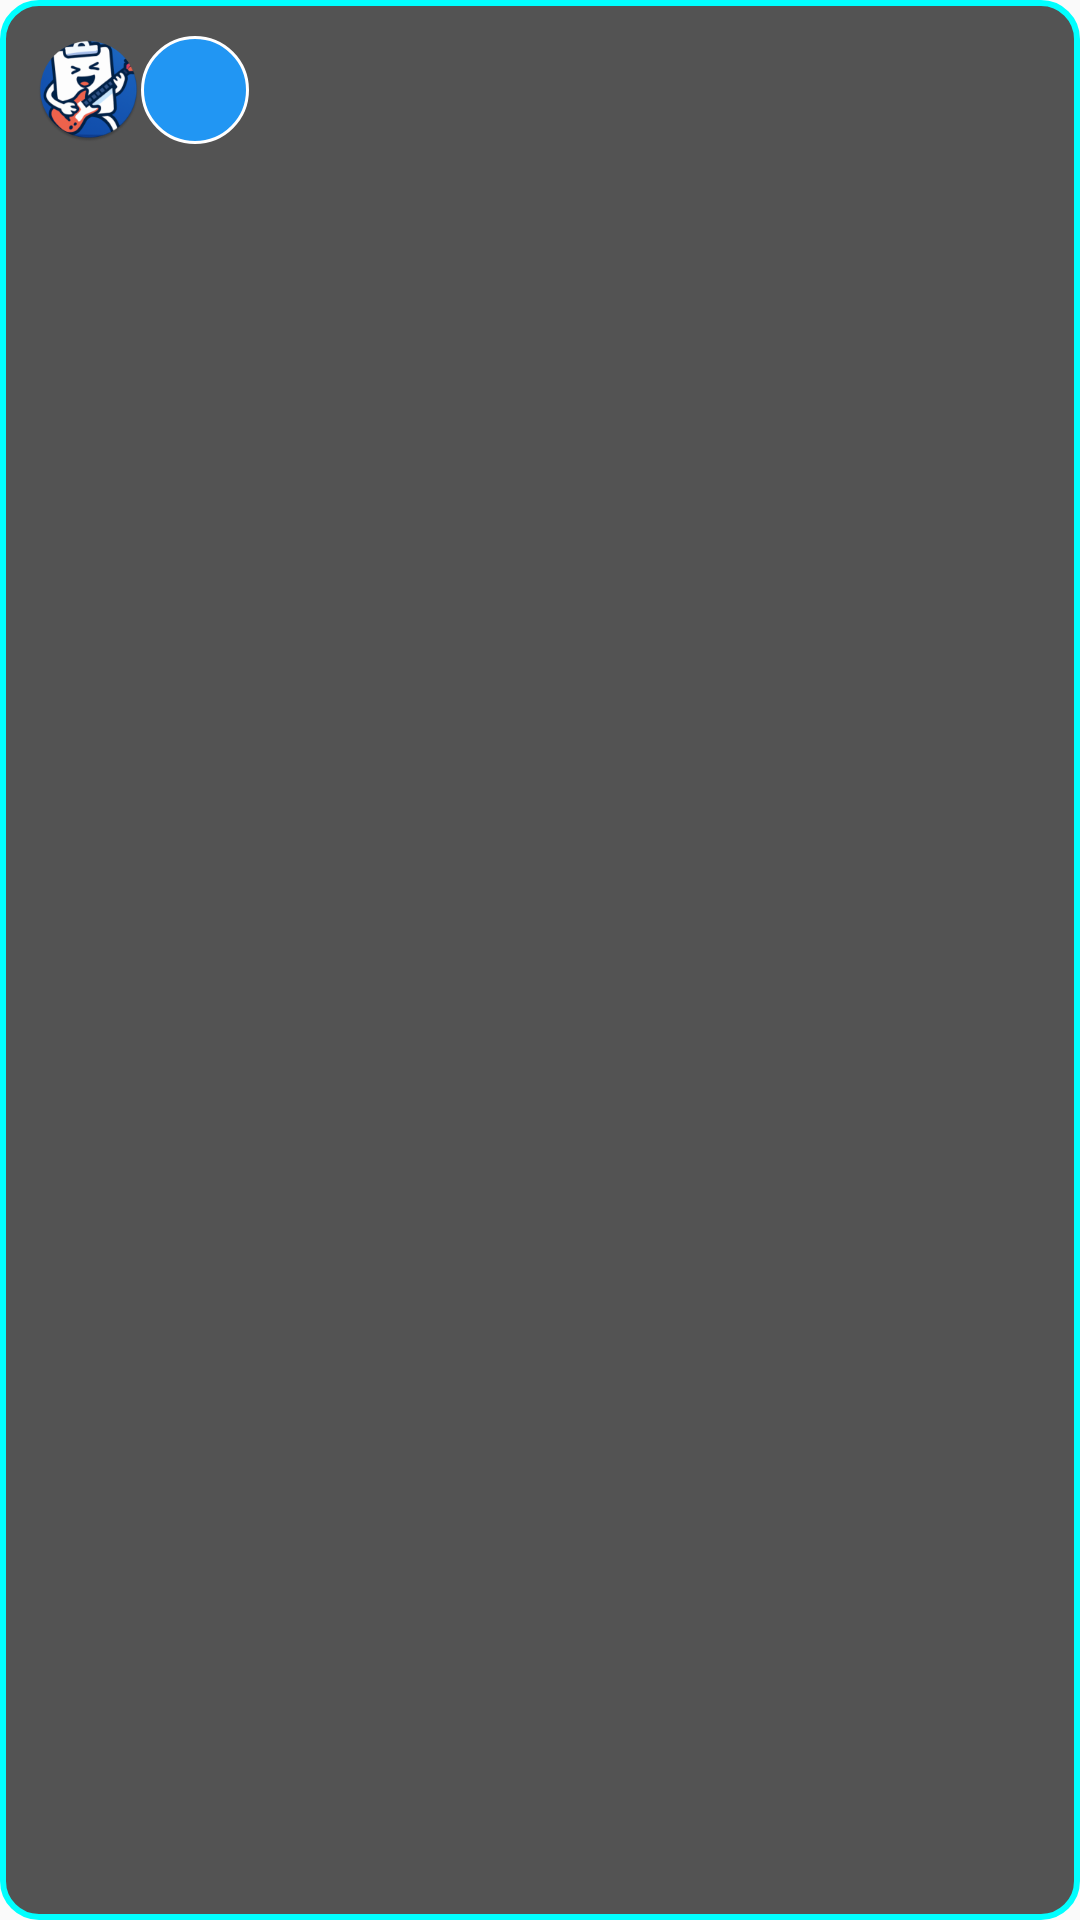

Point at icon controls on the screen. Image size 1080px×1920px, points as [x,y].
rock clip round: [88,89]
